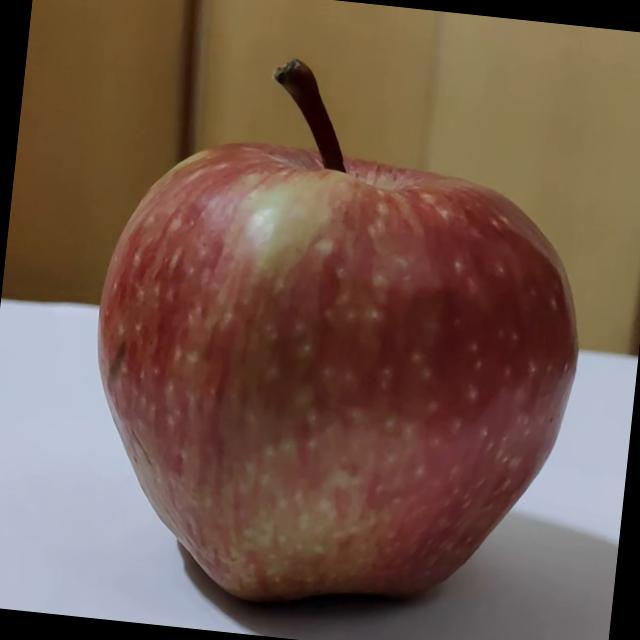apple: (67, 37, 614, 640)
